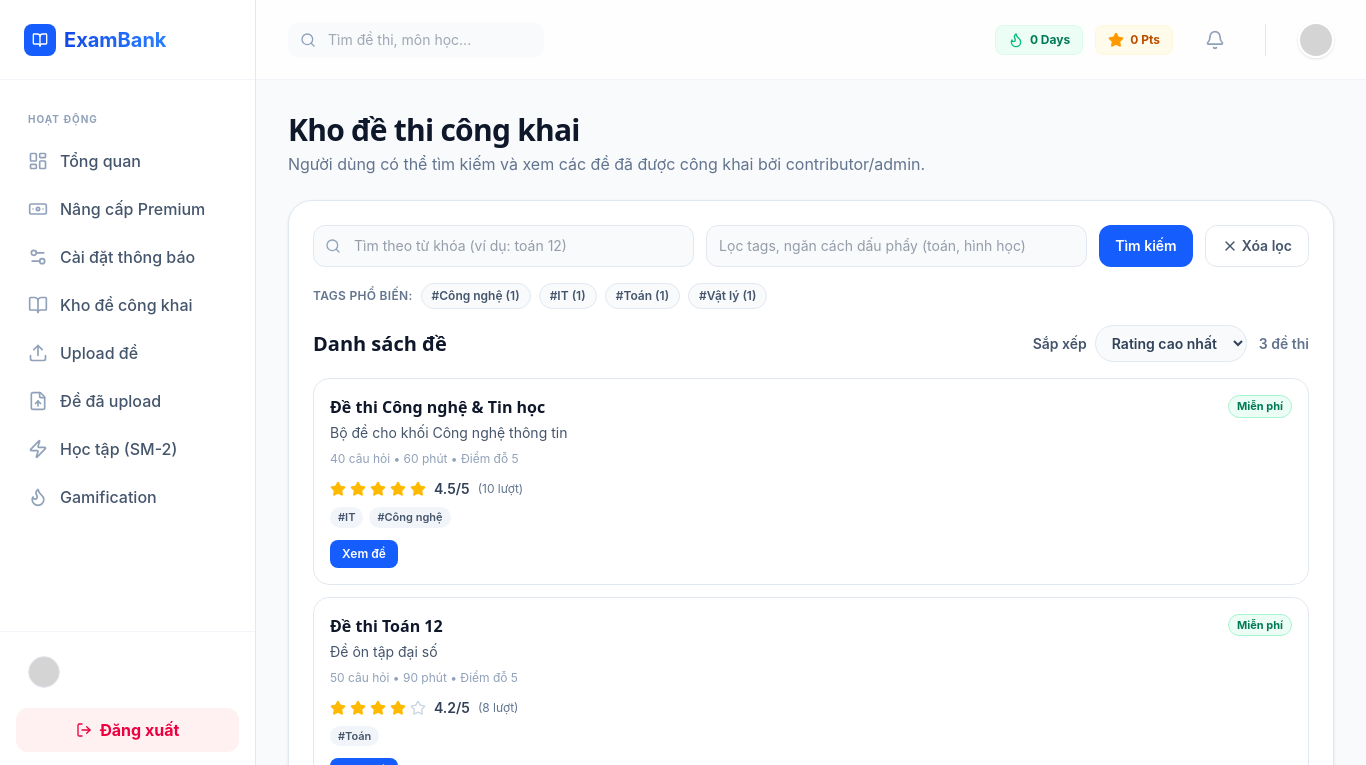
PublicExams › filters exams by clicking popular tag chip
Expected: the heading "Đề thi Công nghệ & Tin học" is shown, [330,395,545,419]
Click the button "#IT (1)". click: click(568, 296)
box: [539,283,597,309]
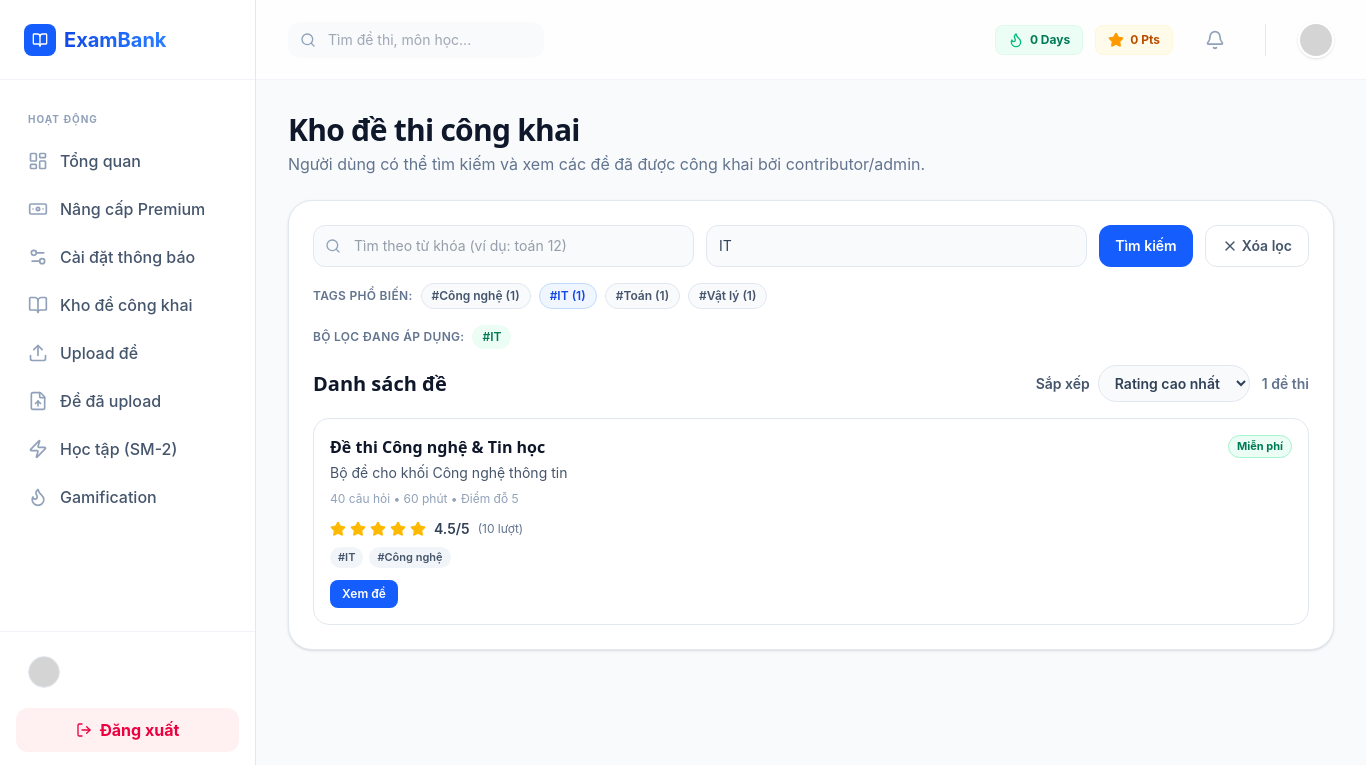
Expected: the heading "Đề thi Công nghệ & Tin học" is shown, [330,435,545,459]
Now the heading "Đề thi Toán 12" is gone
Now the text "1 đề thi" is shown, box [1262,374,1309,394]
